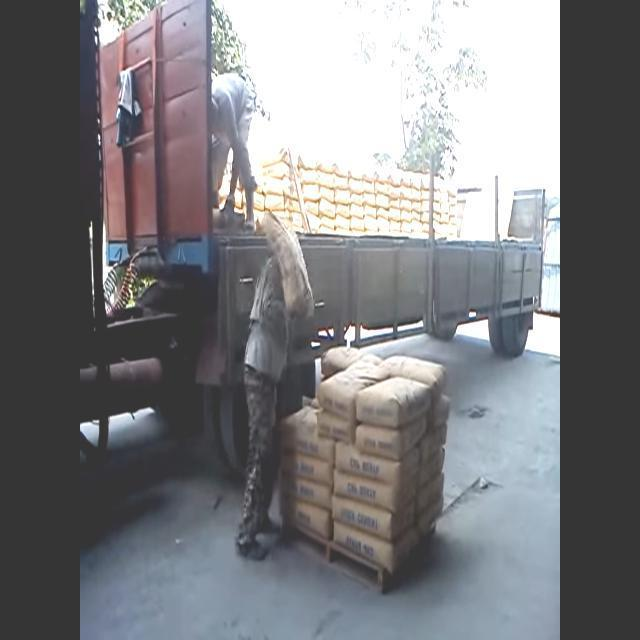gunny_bag: (261, 212, 314, 317), (334, 521, 419, 575), (317, 359, 389, 421), (332, 494, 415, 541), (356, 377, 431, 428), (335, 441, 420, 484), (356, 415, 427, 460), (280, 406, 334, 465), (380, 355, 446, 397), (281, 452, 333, 486), (290, 500, 333, 539), (317, 408, 356, 443), (418, 446, 445, 488), (303, 184, 319, 200), (364, 193, 375, 212), (336, 203, 349, 217), (401, 199, 412, 211)
